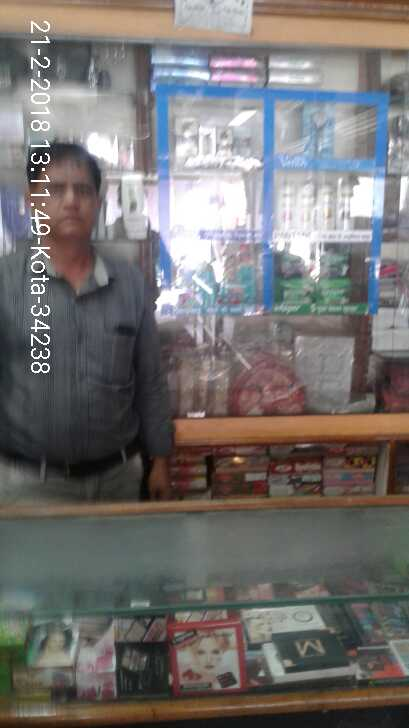venus: (303, 102, 337, 156)
